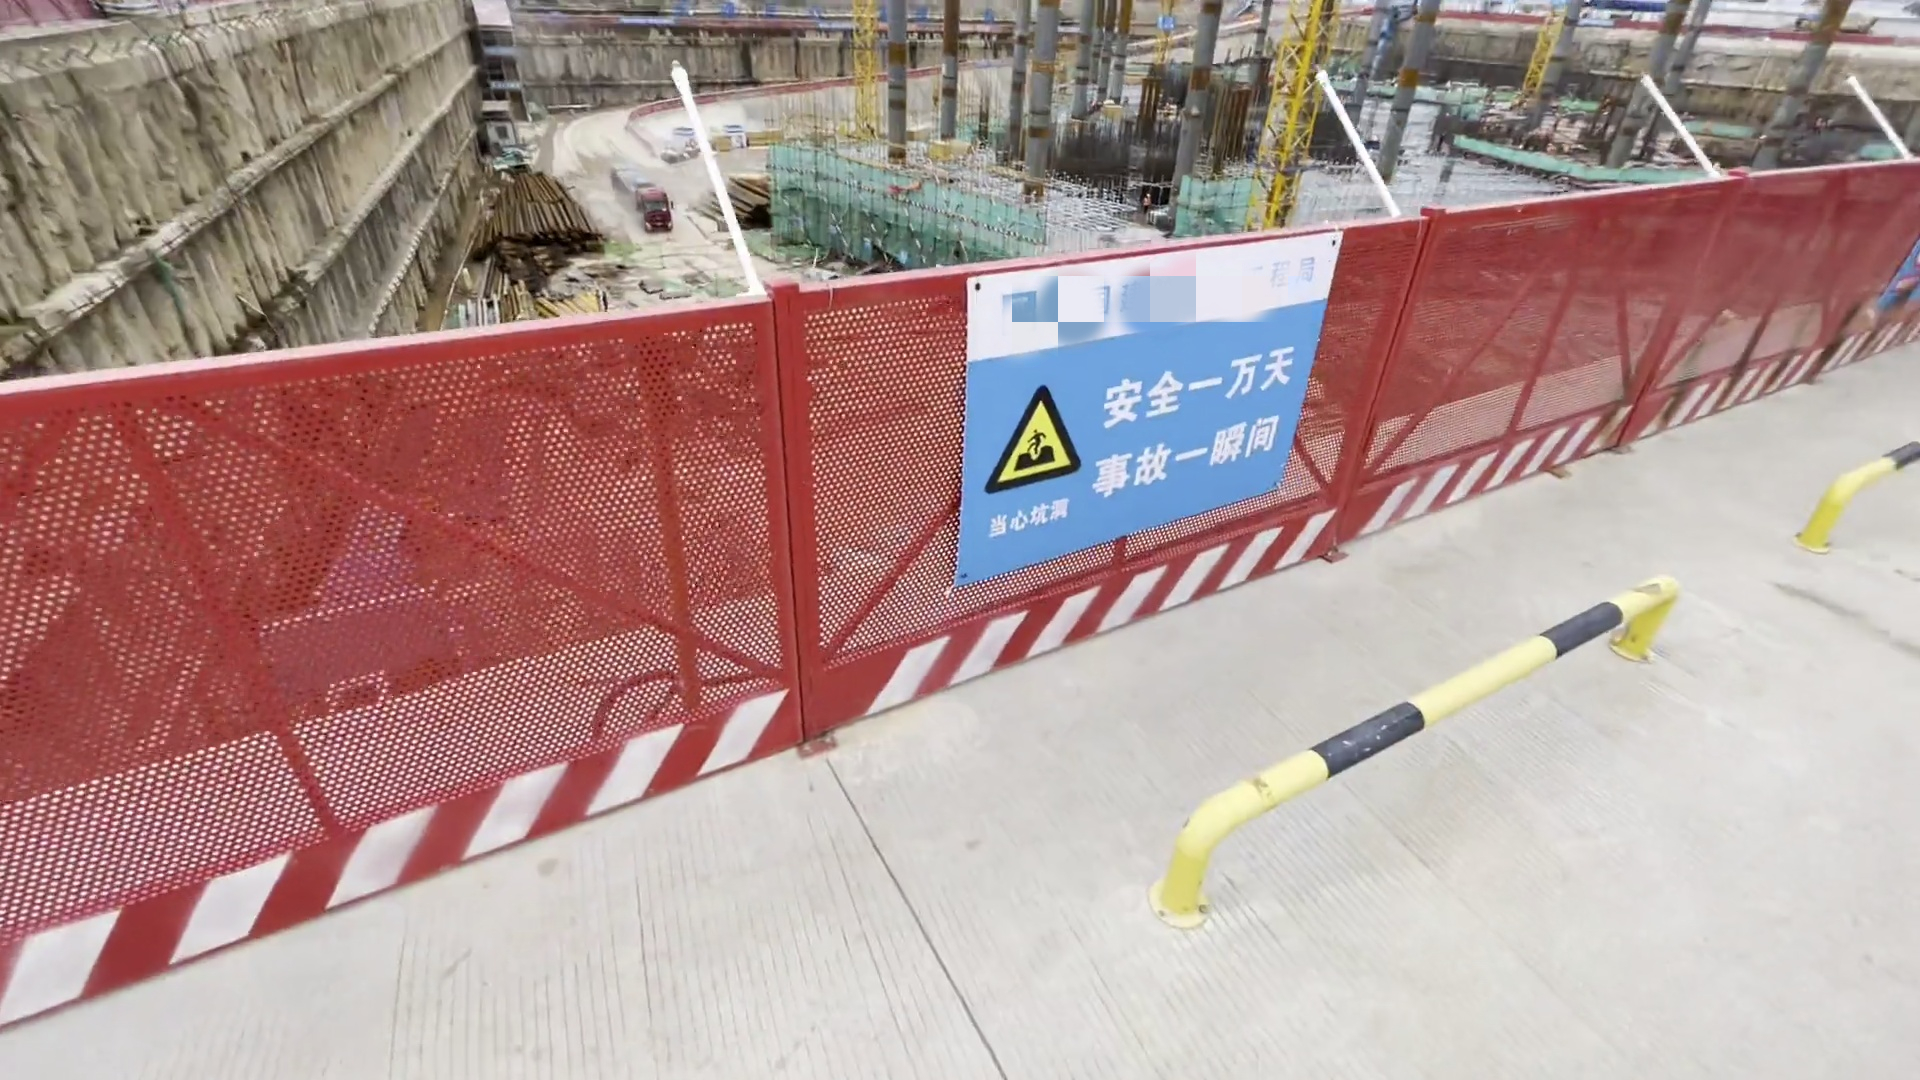fence: (4, 200, 1633, 866)
slogan: (1017, 277, 1317, 496)
